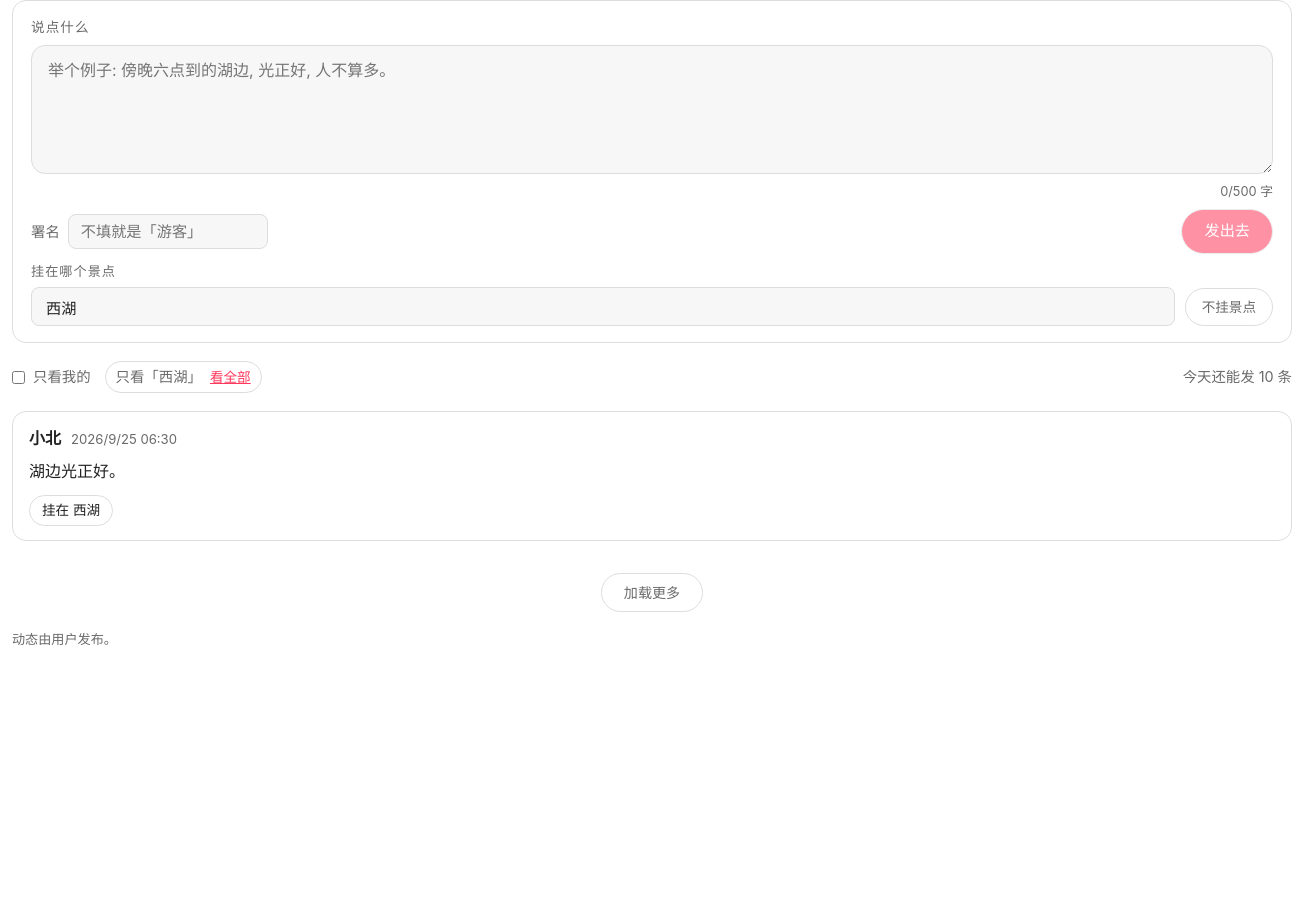
Test: PostsPage › 按景点看的时候, 翻页也带着这个景点
Expected: the text "湖边光正好。" is shown, [29,461,125,481]
What coordinates should you click on to do the following:
click the button "加载更多"
I would click on:
 (652, 592)
Its box is [601,573,703,612].
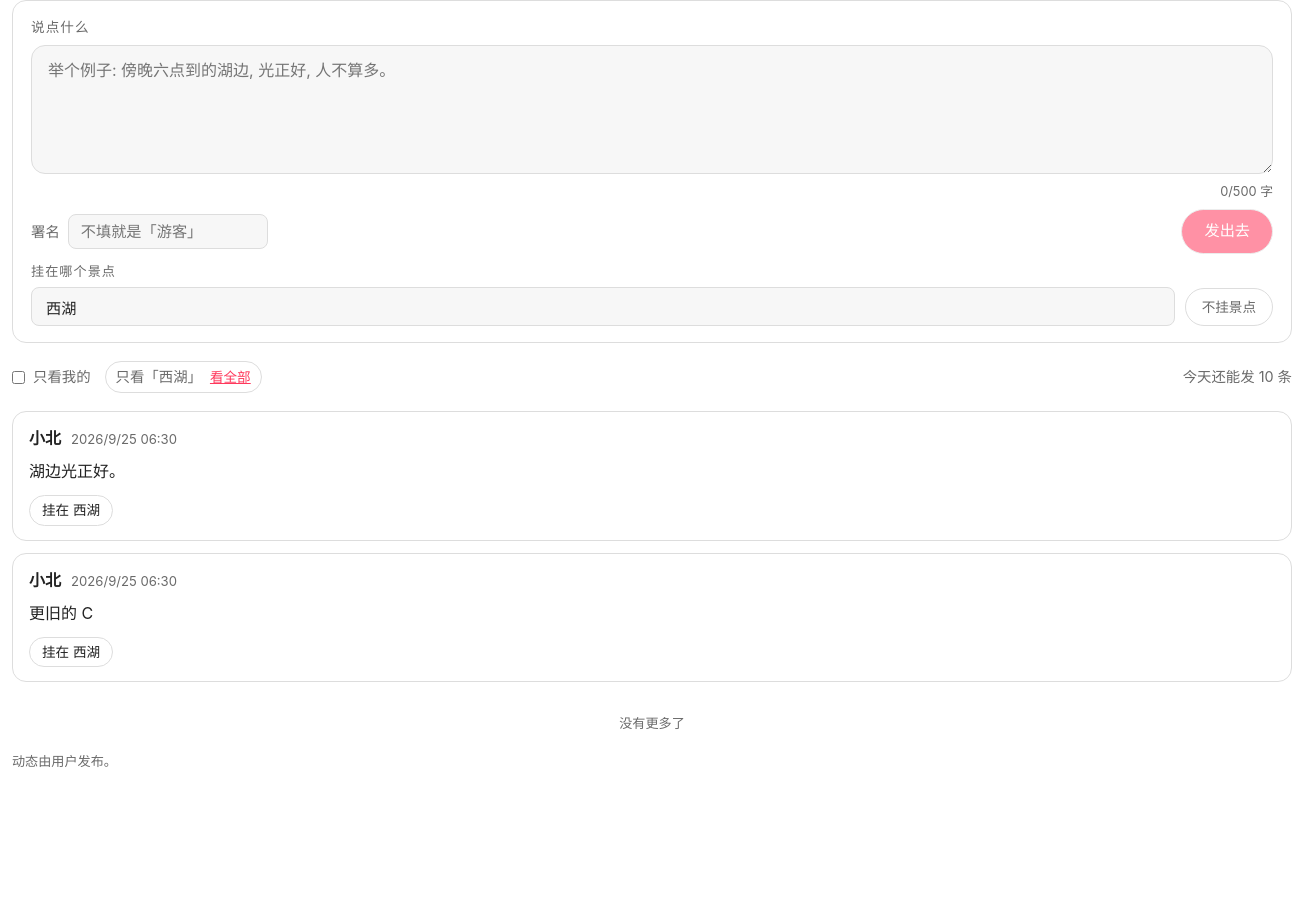
Expected: the text "更旧的 C" is shown, [29,603,93,623]
